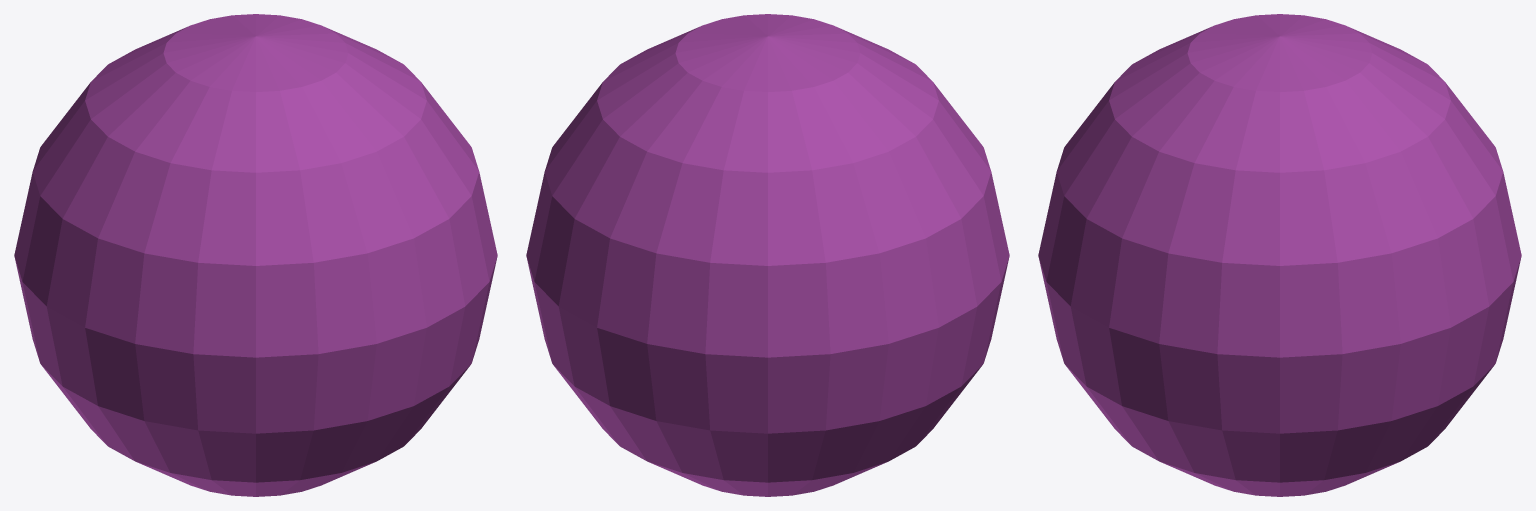
Rendered from ball.dae.
3 renders of one model, left to right at view 1: azimuth 30°, elevation 25°; view 2: azimuth 150°, elevation 25°; view 3: azimuth 270°, elevation 25°, orthographic.
Visible parts, largest first — view 1: ball__link; view 2: ball__link; view 3: ball__link.
Boxes of the visible parts, x1,y1,x2,y2 form: ball__link: [14, 14, 497, 496]; ball__link: [526, 14, 1009, 496]; ball__link: [1038, 14, 1521, 496].
Size of the model in its own units: 0.075 by 0.075 by 0.075.
